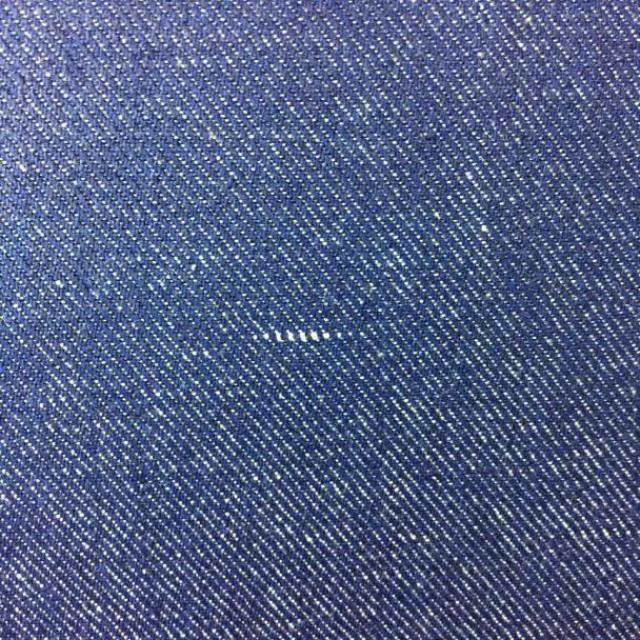Knot: (253, 329, 354, 344)
